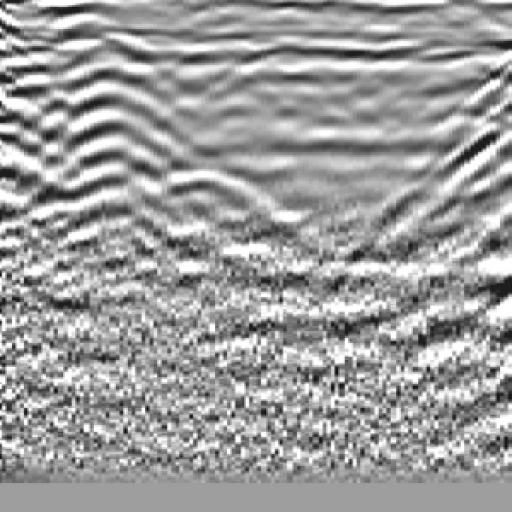metalic: (100, 32, 297, 270)
nonmetalic: (366, 30, 512, 260)
